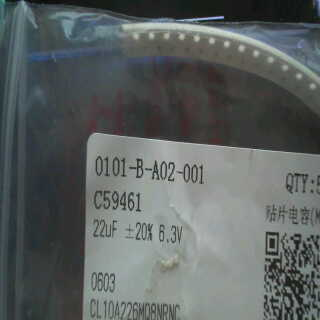22uF: (89, 217, 122, 244)
